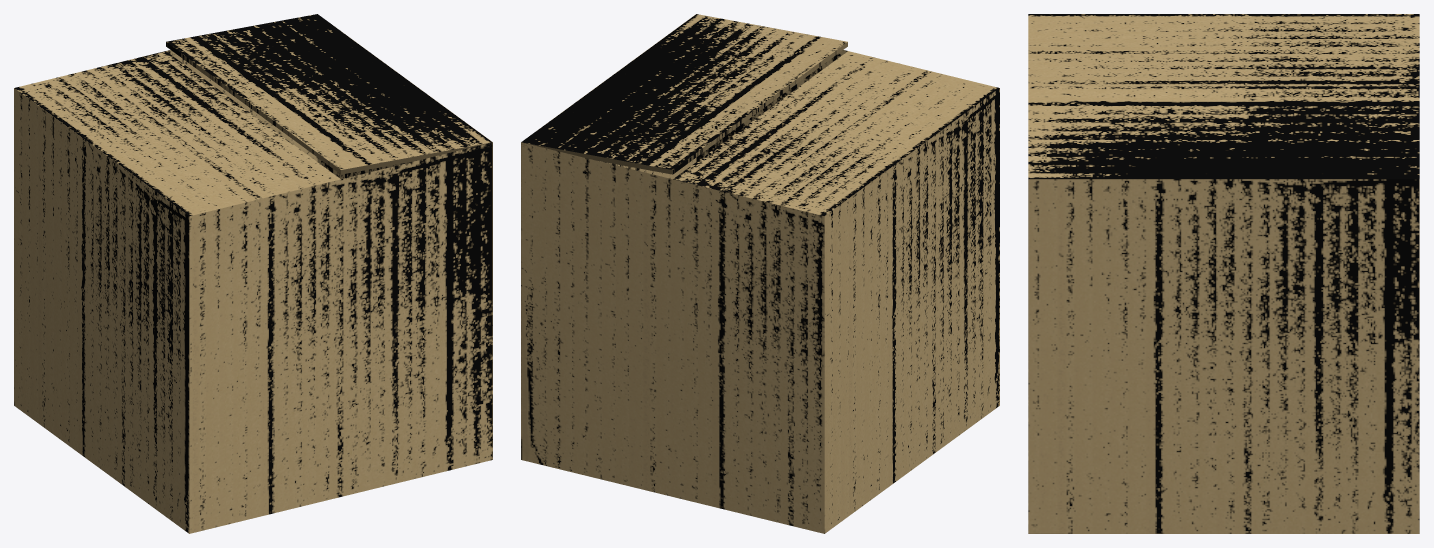
Rendered from cardboardBoxInk.fbx.
3 renders of one model, left to right at view 1: azimuth 30°, elevation 25°; view 2: azimuth 150°, elevation 25°; view 3: azimuth 270°, elevation 25°, orthographic. The views are drawn at different scales.
Parts seen in each view (by area): view 1: Cube; view 2: Cube; view 3: Cube.
Part boxes in pixels (left/top/right/bottom): Cube: left=14, top=14, right=492, bottom=533; Cube: left=521, top=14, right=999, bottom=533; Cube: left=1028, top=14, right=1419, bottom=533.
Size of the model in its own units: 200 by 206 by 200.
Materials: 1 (1 with a texture image).
